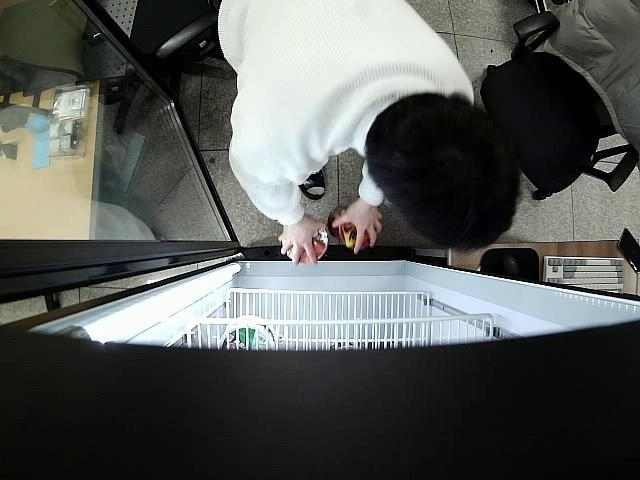05_nuguri_L: (329, 205, 369, 250), (287, 228, 327, 262)
